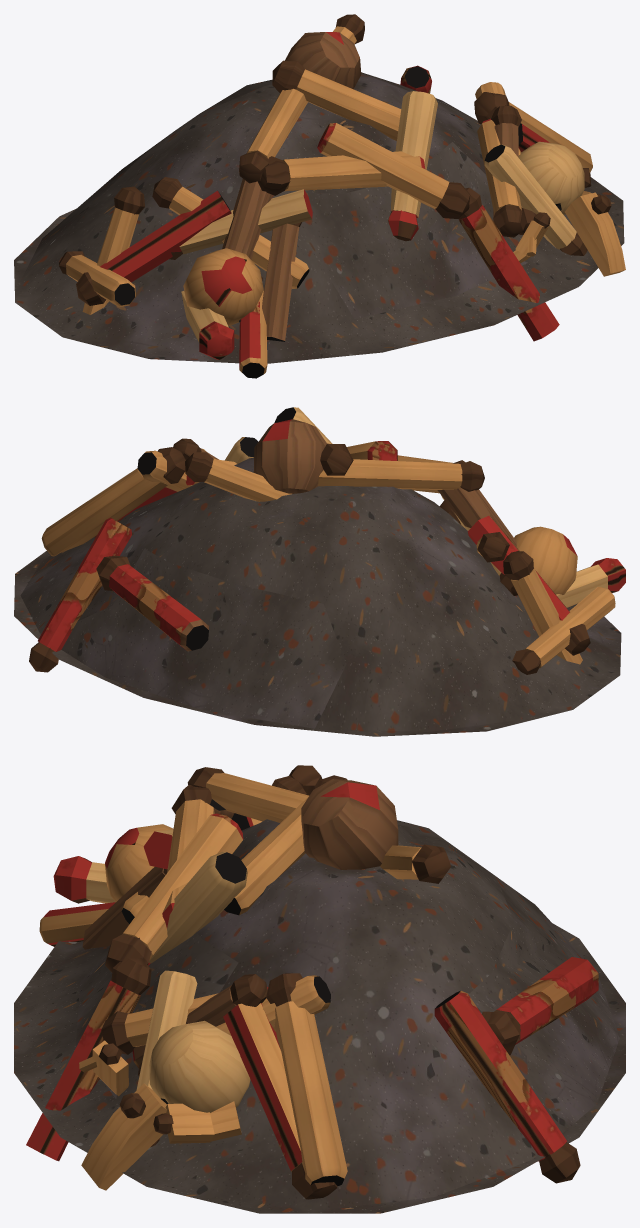
The model's file is Puppet_Limb_Pile.glb.
The picture shows the model from 3 angles, top to bottom: view 1: azimuth 30°, elevation 25°; view 2: azimuth 150°, elevation 25°; view 3: azimuth 270°, elevation 25°; orthographic projection. The views are drawn at different scales.
Parts seen in each view (by area): view 1: Puppet_Limb_Pile; view 2: Puppet_Limb_Pile; view 3: Puppet_Limb_Pile.
Part boxes in pixels (x1,y1,x2,y2): Puppet_Limb_Pile: (14, 14, 625, 378); Puppet_Limb_Pile: (14, 407, 625, 736); Puppet_Limb_Pile: (14, 765, 625, 1213).
Size of the model in its own units: 1.94 by 0.8144 by 1.43.
Materials: 7 (6 with a texture image).
